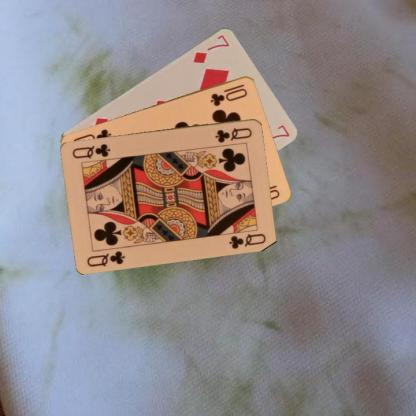10c: (207, 81, 249, 107)
7d: (190, 31, 231, 65)
Qc: (84, 248, 126, 268), (212, 125, 254, 144)
